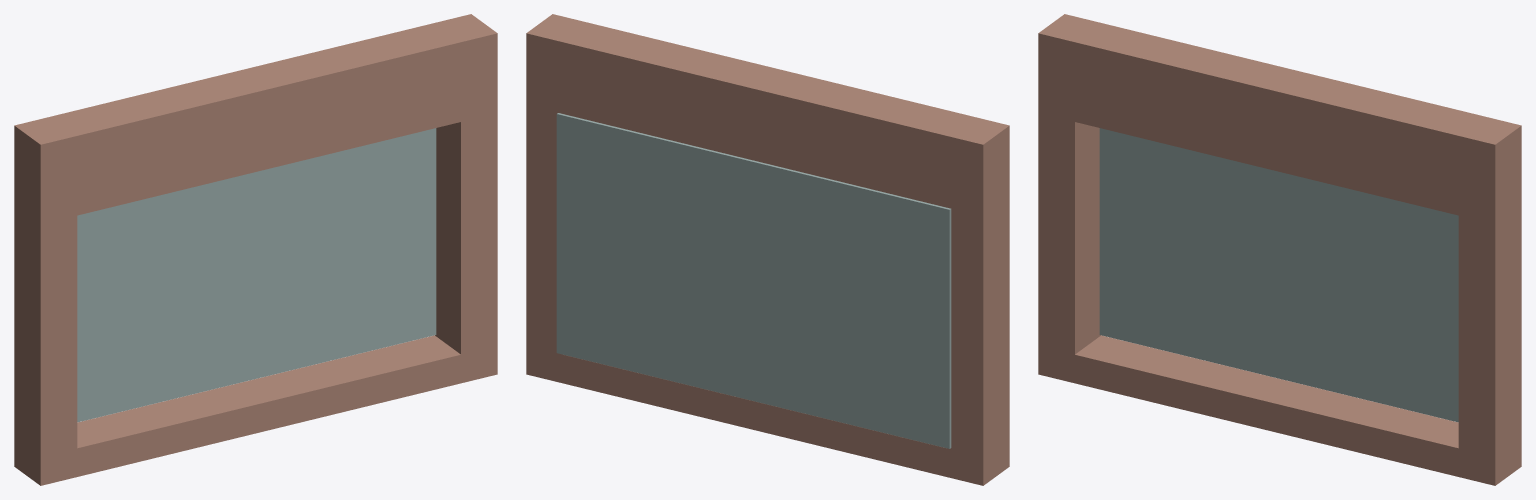
File: iz3_neighborhood_pencere_taş.glb
The picture shows the model from 3 angles, left to right: view 1: azimuth 30°, elevation 25°; view 2: azimuth 150°, elevation 25°; view 3: azimuth 330°, elevation 25°; orthographic projection.
Parts seen in each view (by area): view 1: glass, lintel, sill, jamb_l, jamb_r; view 2: glass, lintel, jamb_l, sill, jamb_r; view 3: glass, lintel, sill, jamb_r, jamb_l.
Part boxes in pixels (<box>): glass: <box>77,128,436,422</box>; lintel: <box>14,14,497,224</box>; sill: <box>14,335,497,485</box>; jamb_l: <box>14,190,77,463</box>; jamb_r: <box>435,97,497,360</box>; glass: <box>556,113,951,448</box>; lintel: <box>526,14,1009,224</box>; jamb_l: <box>946,190,1009,463</box>; sill: <box>526,346,1009,485</box>; jamb_r: <box>526,97,562,359</box>; glass: <box>1099,128,1458,422</box>; lintel: <box>1038,14,1521,224</box>; sill: <box>1038,335,1521,485</box>; jamb_r: <box>1458,190,1521,463</box>; jamb_l: <box>1038,97,1100,360</box>.
Bounding box in the file's own units: 3 × 2.14 × 0.3175.
